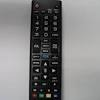remote control: (27, 0, 61, 100)
